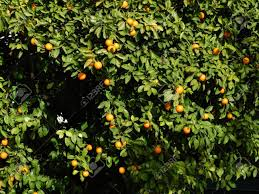orange: (104, 113, 114, 122), (175, 85, 184, 95), (77, 72, 86, 81), (93, 62, 103, 70), (175, 105, 184, 113)
